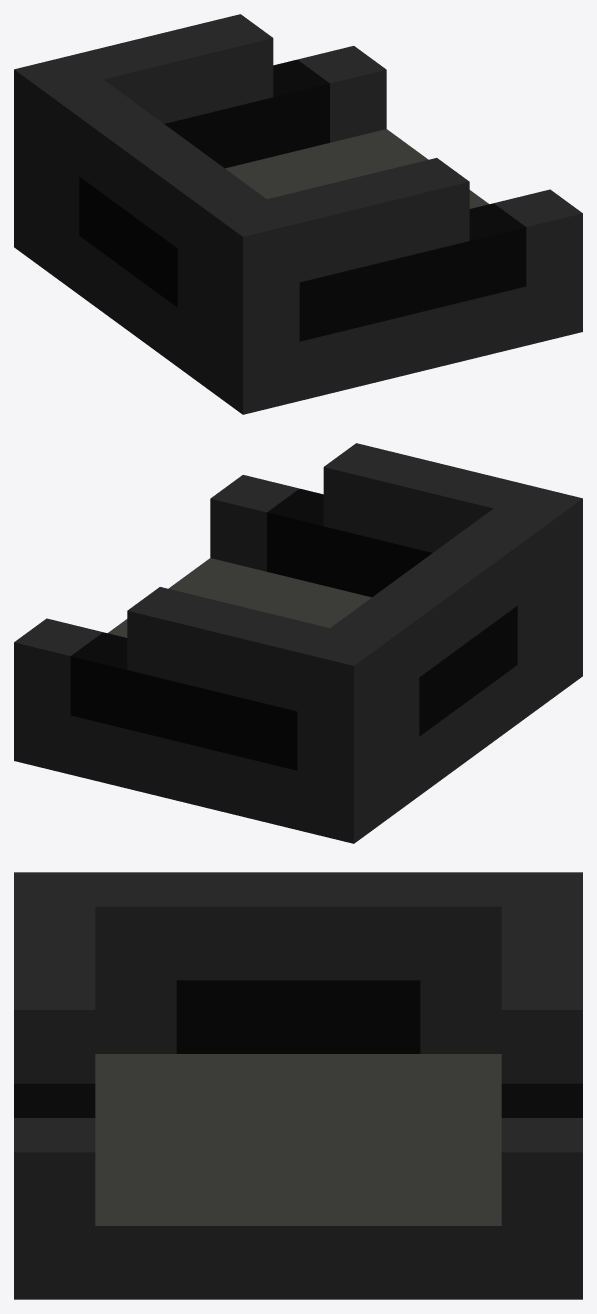
Rendered from Station_Charge.obj.
The picture shows the model from 3 angles, top to bottom: view 1: azimuth 30°, elevation 25°; view 2: azimuth 150°, elevation 25°; view 3: azimuth 270°, elevation 25°; orthographic projection. The views are drawn at different scales.
Visible parts, largest first — view 1: Untitled; view 2: Untitled; view 3: Untitled.
Boxes of the visible parts, x1,y1,x2,y2 form: Untitled: (14, 14, 582, 414); Untitled: (14, 443, 582, 843); Untitled: (14, 872, 582, 1299).
Size of the model in its own units: 0.6 by 0.3 by 0.7.
